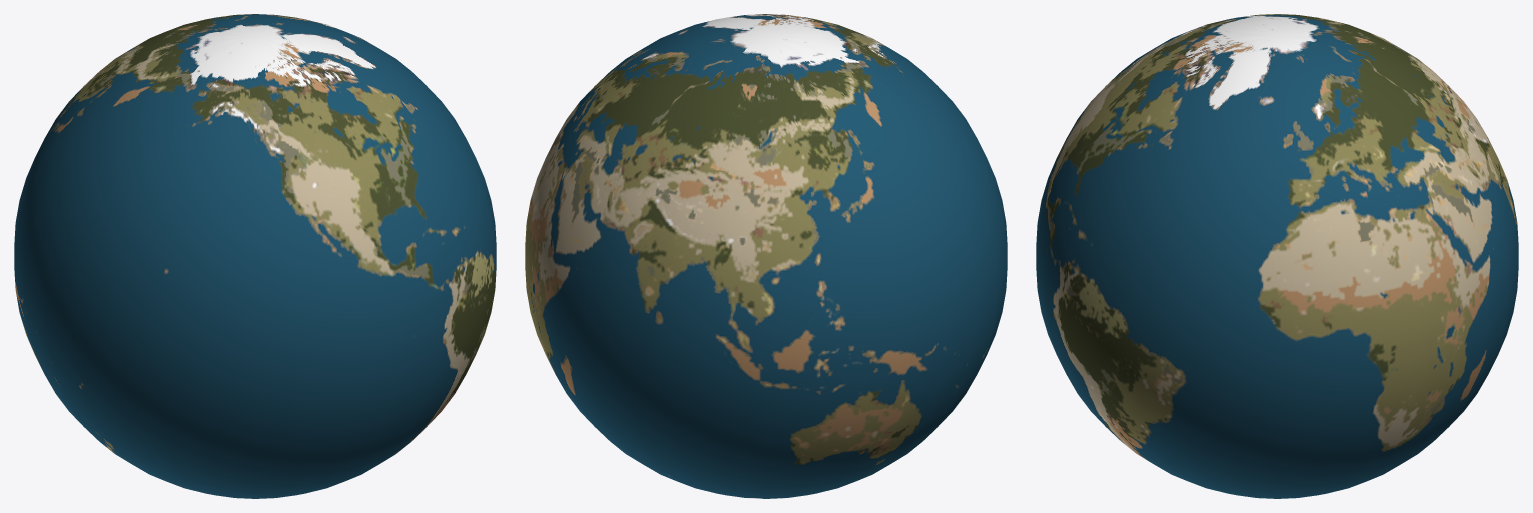
The model's file is kycPlanetSphere.obj.
3 views of the same model, side by side, from view 1: azimuth 30°, elevation 25°; view 2: azimuth 150°, elevation 25°; view 3: azimuth 270°, elevation 25° (orthographic).
Parts seen in each view (by area): view 1: pSphere1; view 2: pSphere1; view 3: pSphere1.
Part boxes in pixels (x1,y1,x2,y2): pSphere1: [14, 14, 496, 498]; pSphere1: [525, 14, 1007, 498]; pSphere1: [1036, 14, 1518, 498].
Size of the model in its own units: 2 by 2 by 1.99.
